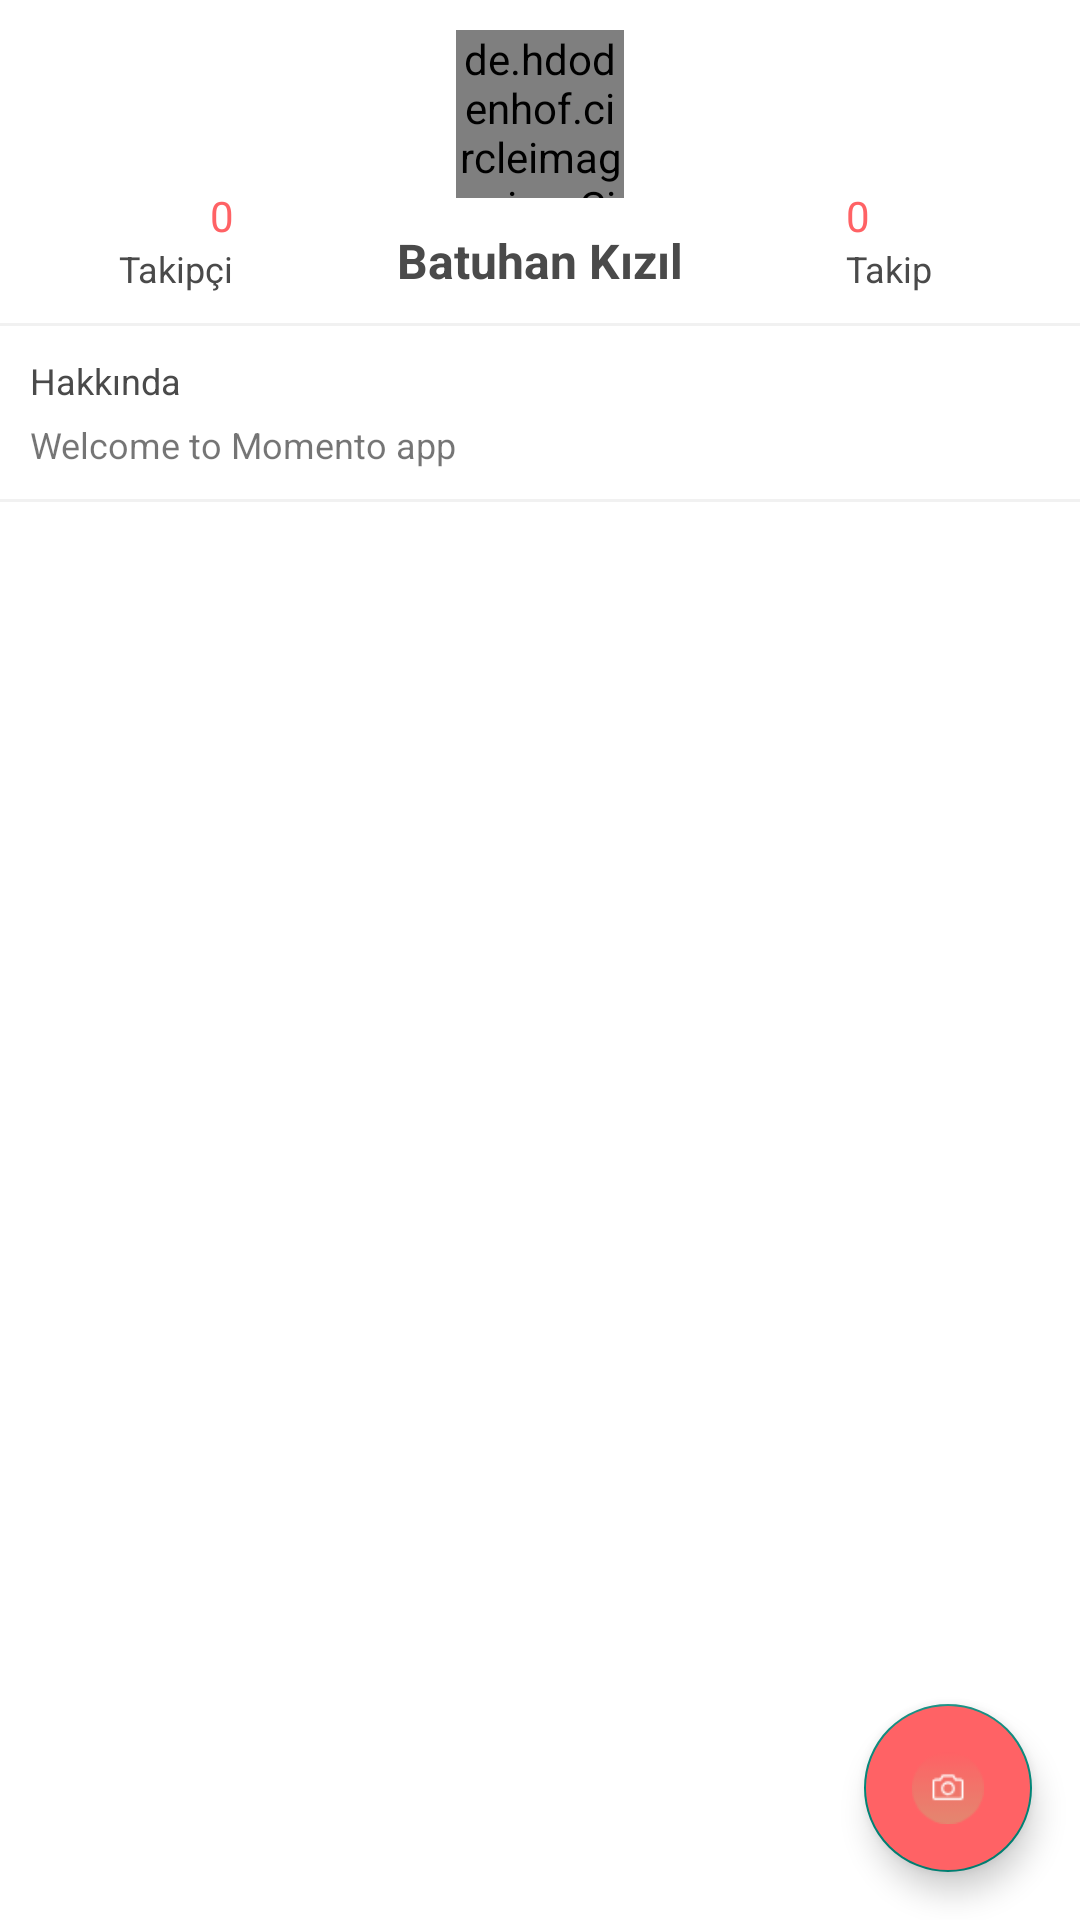

Named icons in this screenshot (1080 × 1920) and their centers, point (x, y):
photo camera: point (948, 1788)
